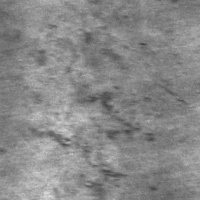rolled-in_scale: (33, 89, 158, 199), (29, 22, 161, 100)
